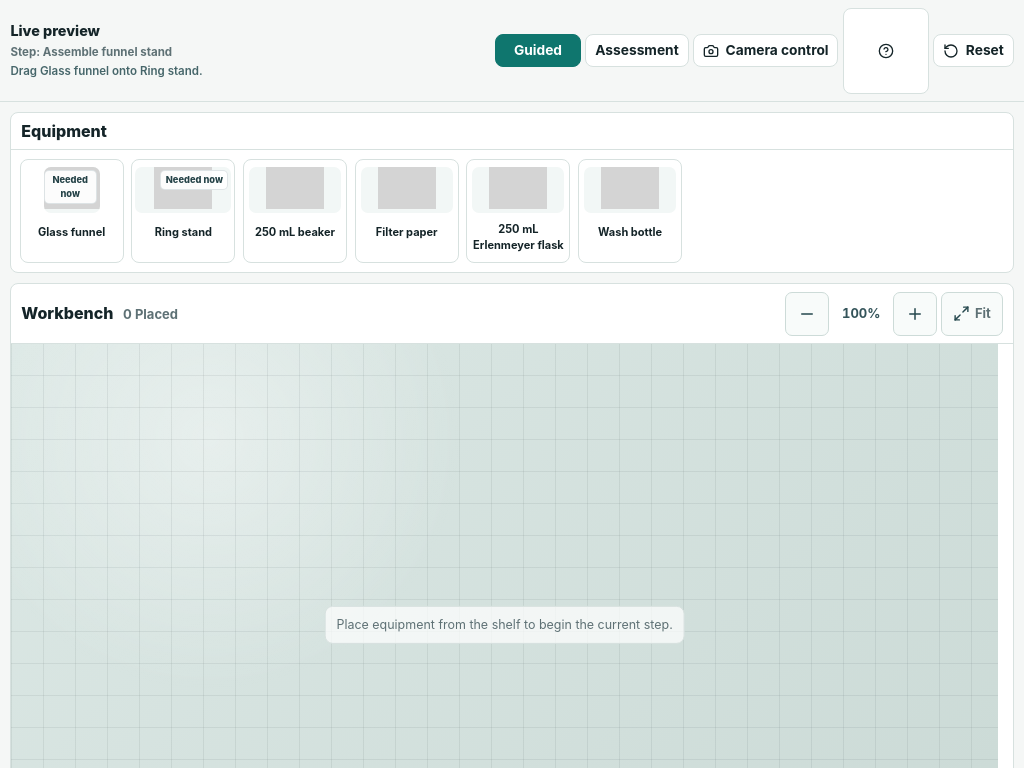
Test: StudentPlayer › keeps compact equipment row placement wired to the workbench
This screenshot has width=1024, height=768.
Click the button with aria-label "filter paper, available" at coordinates (407, 211), box x1=355 y1=159 x2=459 y2=263
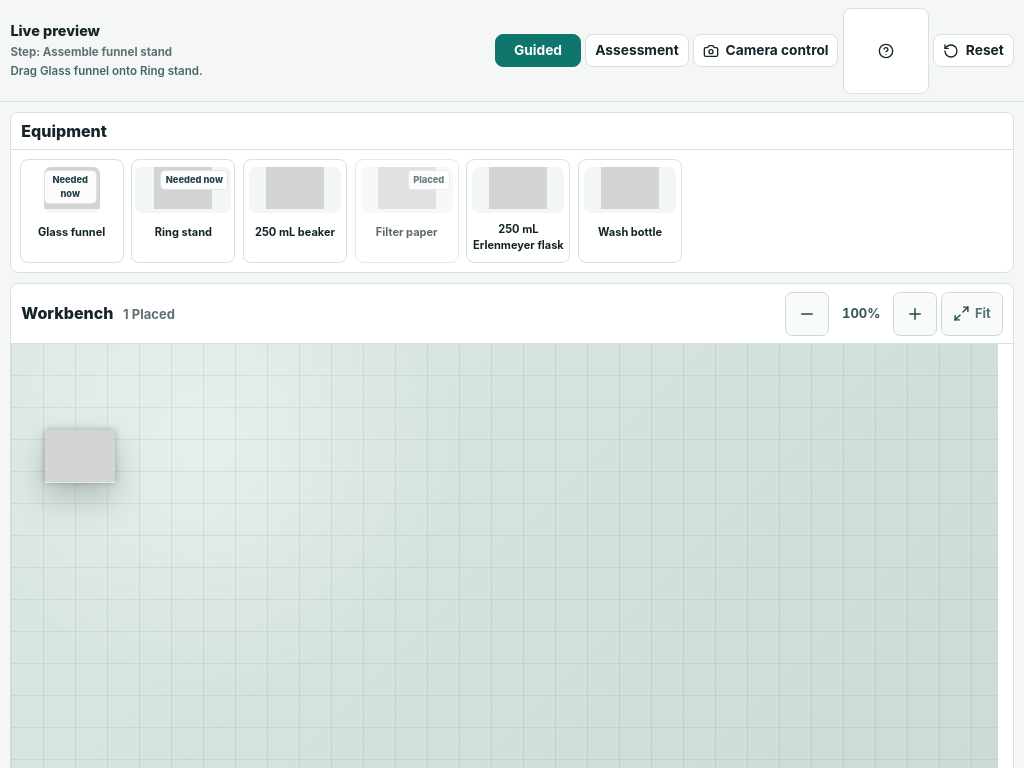
Expected: the text "1 placed" is shown, x1=123 y1=305 x2=175 y2=324
